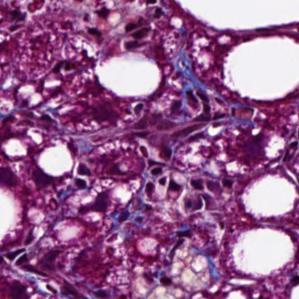inflammation: (135, 144, 225, 199), (118, 17, 157, 51)
